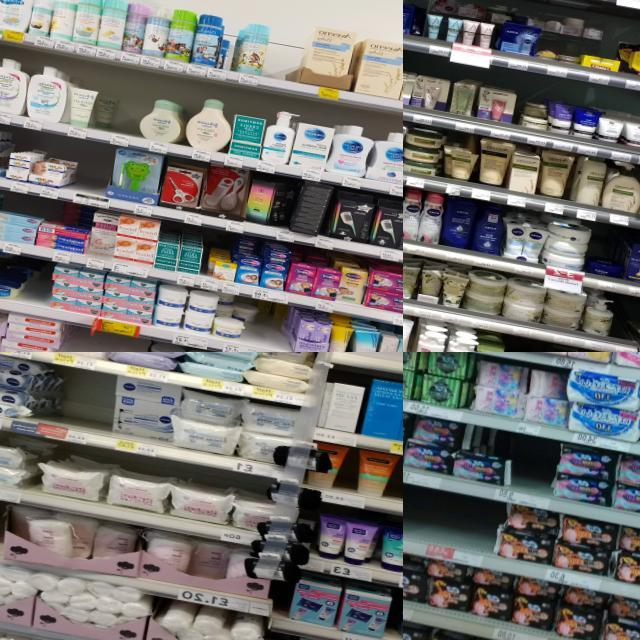void: (403, 486, 498, 565), (48, 368, 114, 446), (508, 434, 558, 508), (70, 143, 113, 208), (258, 26, 295, 91), (108, 83, 144, 148), (65, 329, 148, 352), (608, 295, 639, 352), (22, 276, 52, 320), (251, 315, 280, 352)
